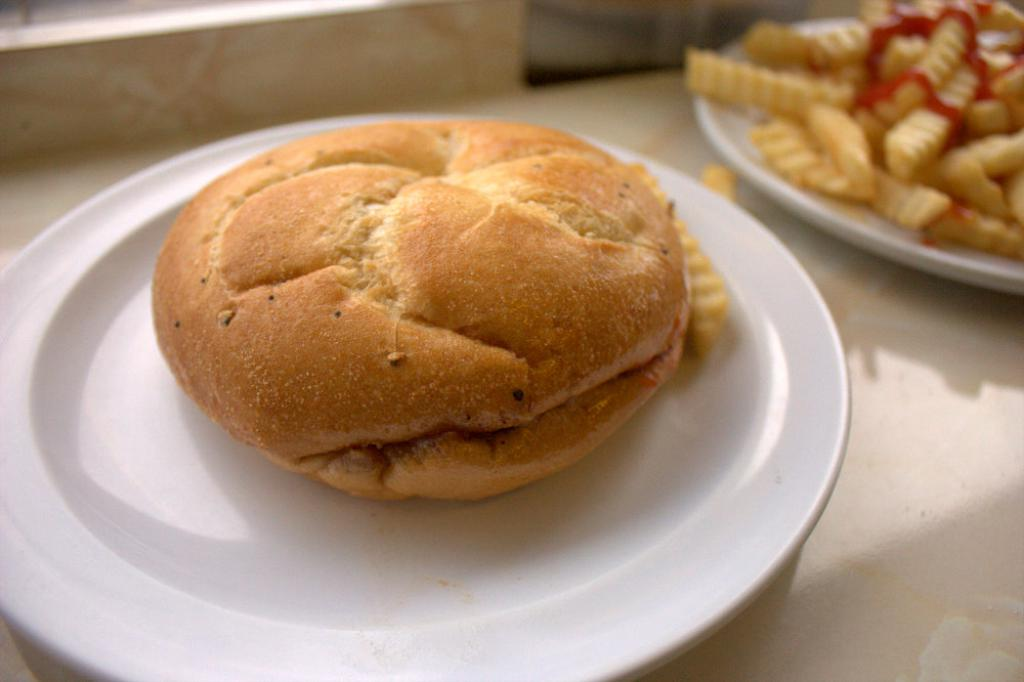French fries: (687, 6, 1024, 238)
